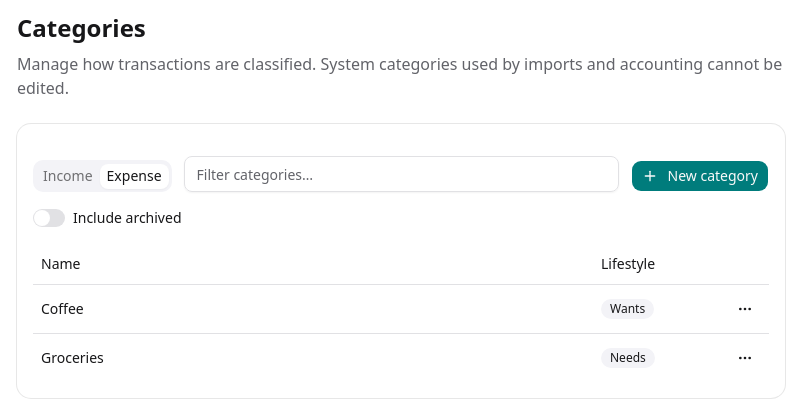
Test: CategoriesLayout › search filters rows in the active tab
Expected: the text "Groceries" is shown, [41,348,104,368]
Type "cof" into the field with placeholder "Filter categories…". click: (401, 174)
box: [184,156,618,192]
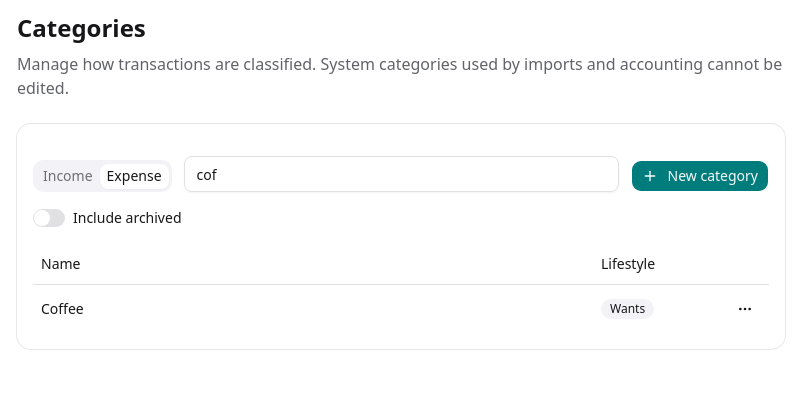
Expected: the text "Coffee" is shown, [41,298,84,318]
Expected: the text "Groceries" is gone
